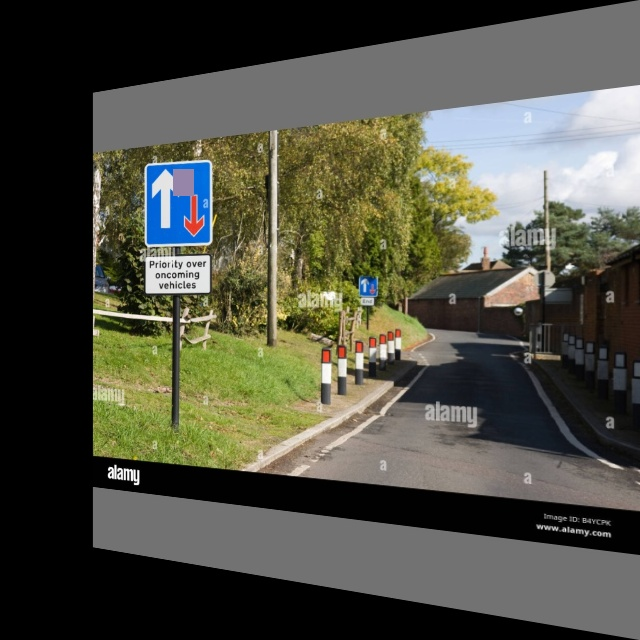Priority_for_Oncoming_Traffic: (146, 158, 213, 247)
